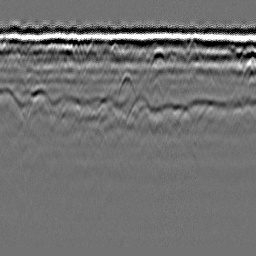cavity: (117, 70, 138, 98)
